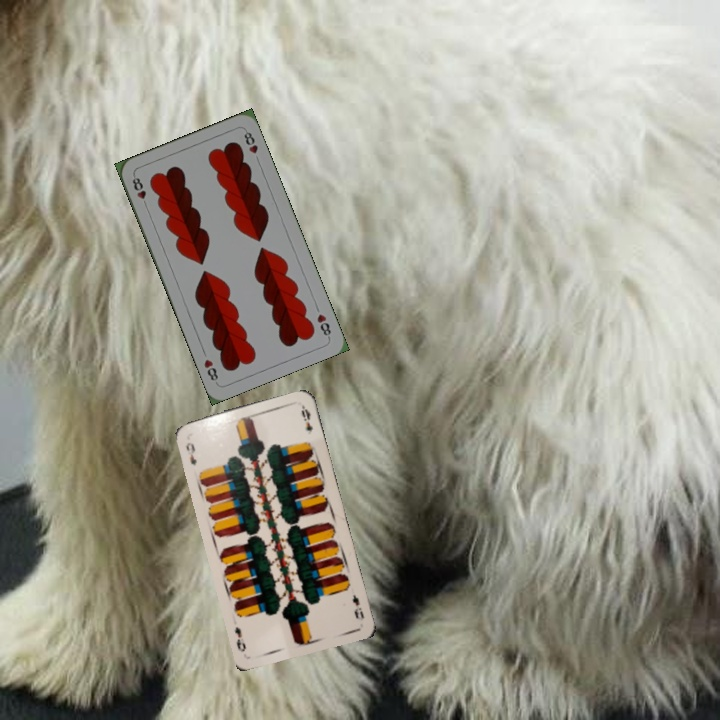E9: (348, 590, 367, 621), (182, 438, 199, 469)
H8: (128, 172, 151, 211), (313, 310, 334, 341)
